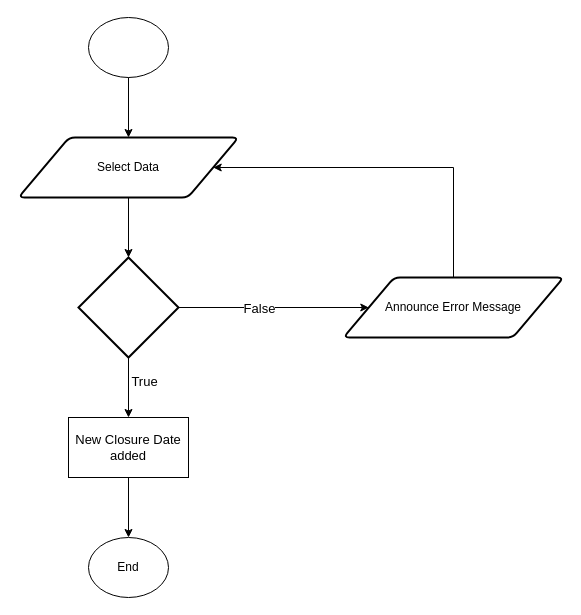
Image size: 581x615. Some labels were removed from this diagram. The shapes that lost their labels are listed below. From the top down, each one's centre as x and y in pixels, then its label:
At pixel 128 47: "START".
At pixel 128 307: "Validate Data".
